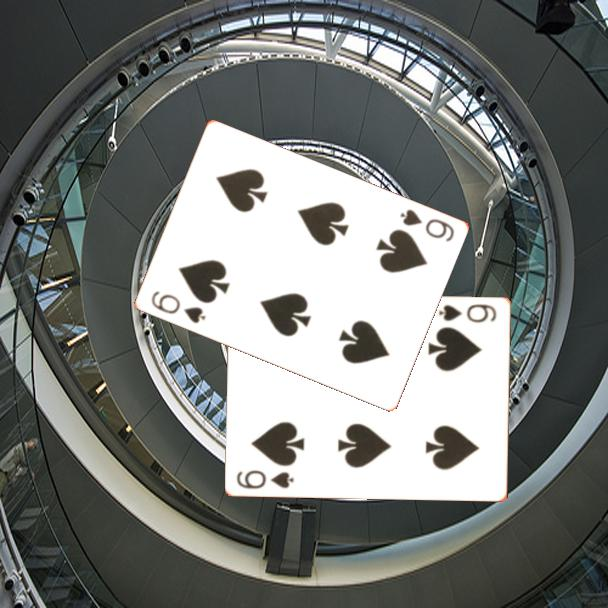s06: (147, 288, 209, 327), (396, 206, 457, 245), (436, 300, 500, 325), (234, 466, 297, 491)
